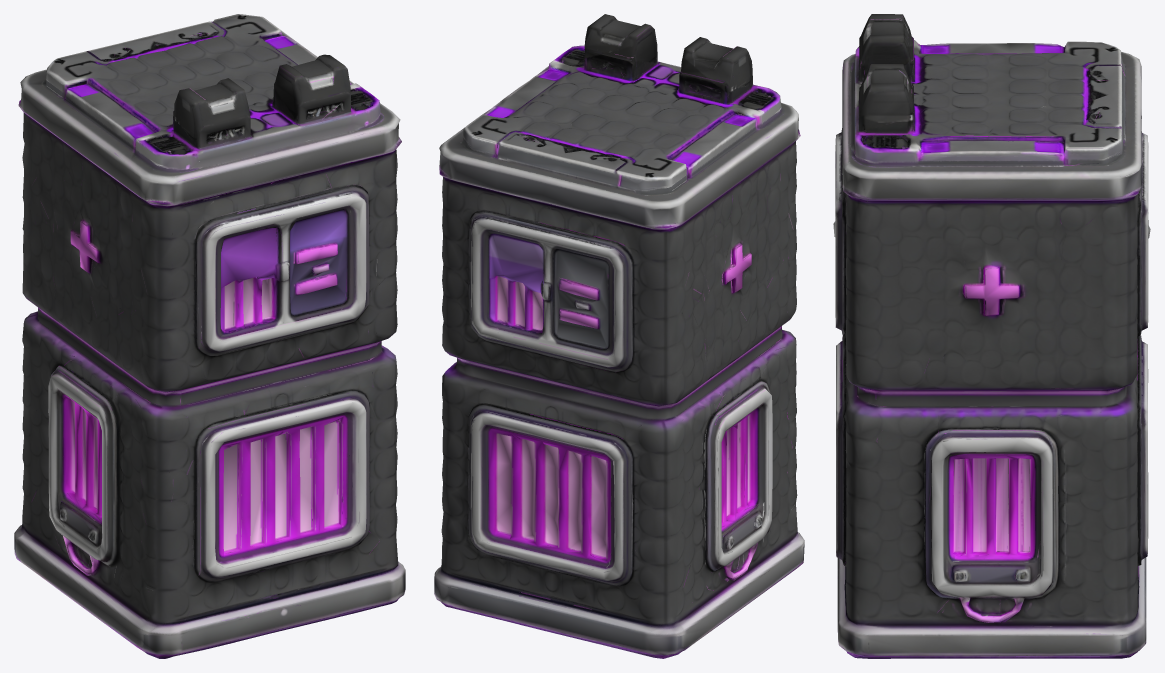
Rendered from Meshy_AI_Power_battery_Cube_0115100752_texture.fbx.
The picture shows the model from 3 angles, left to right: view 1: azimuth 30°, elevation 25°; view 2: azimuth 150°, elevation 25°; view 3: azimuth 270°, elevation 25°; orthographic projection. The views are drawn at different scales.
Visible parts, largest first — view 1: Mesh1.0; view 2: Mesh1.0; view 3: Mesh1.0.
Boxes of the visible parts, <box> form: Mesh1.0: <box>14,14,405,658</box>; Mesh1.0: <box>434,14,804,658</box>; Mesh1.0: <box>833,14,1150,658</box>.
Bounding box in the file's own units: 100 × 191 × 100.
1 material, 1 textured.
